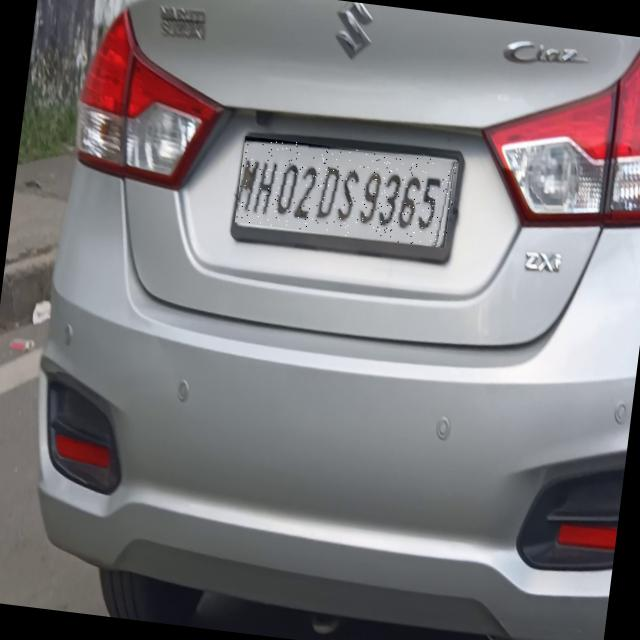Plate: (236, 137, 459, 249)
